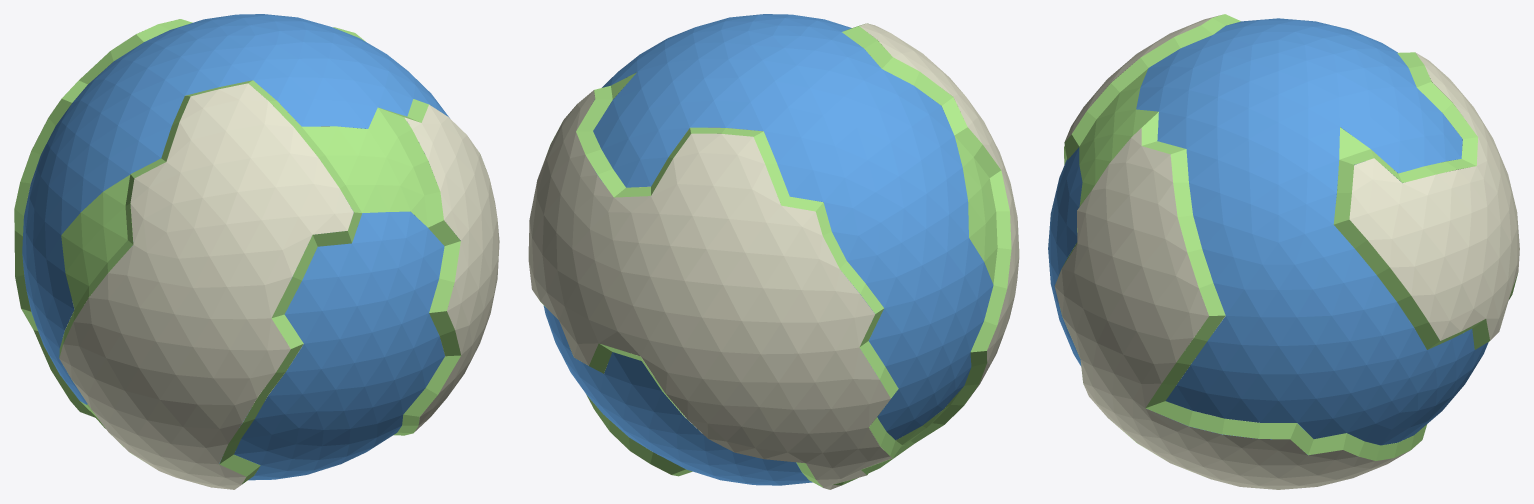
Rendered from earth.glb.
The picture shows the model from 3 angles, left to right: view 1: azimuth 30°, elevation 25°; view 2: azimuth 150°, elevation 25°; view 3: azimuth 270°, elevation 25°; orthographic projection. The views are drawn at different scales.
Parts seen in each view (by area): view 1: Icosphere; view 2: Icosphere; view 3: Icosphere.
Boxes of the visible parts, x1,y1,x2,y2 form: Icosphere: (14,14,499,489); Icosphere: (528,14,1019,489); Icosphere: (1048,14,1519,489).
Size of the model in its own units: 10.12 by 10.05 by 10.23.
